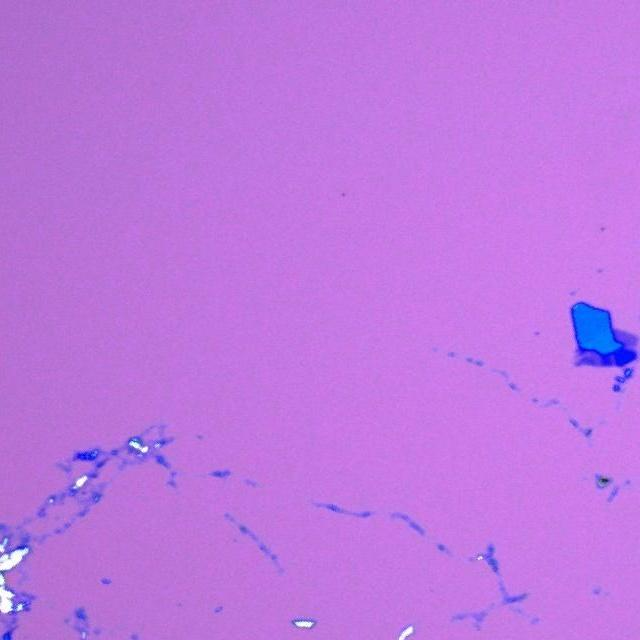monolayer-eWW4: (613, 329, 637, 348)
